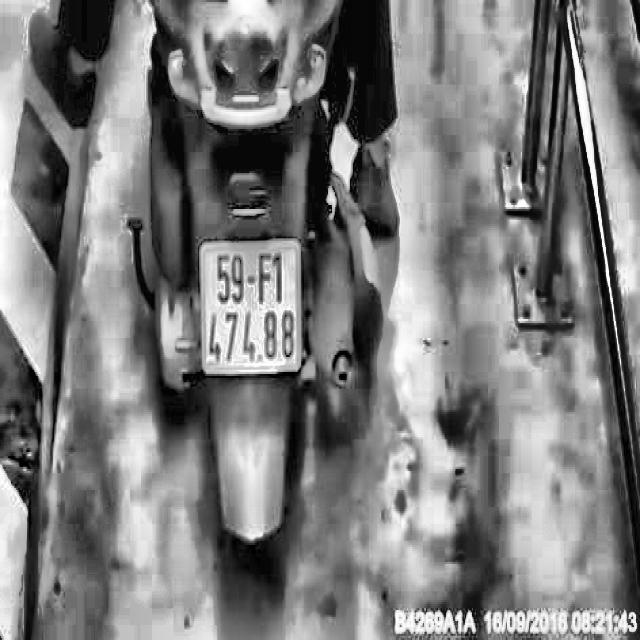plate: (197, 233, 305, 381)
